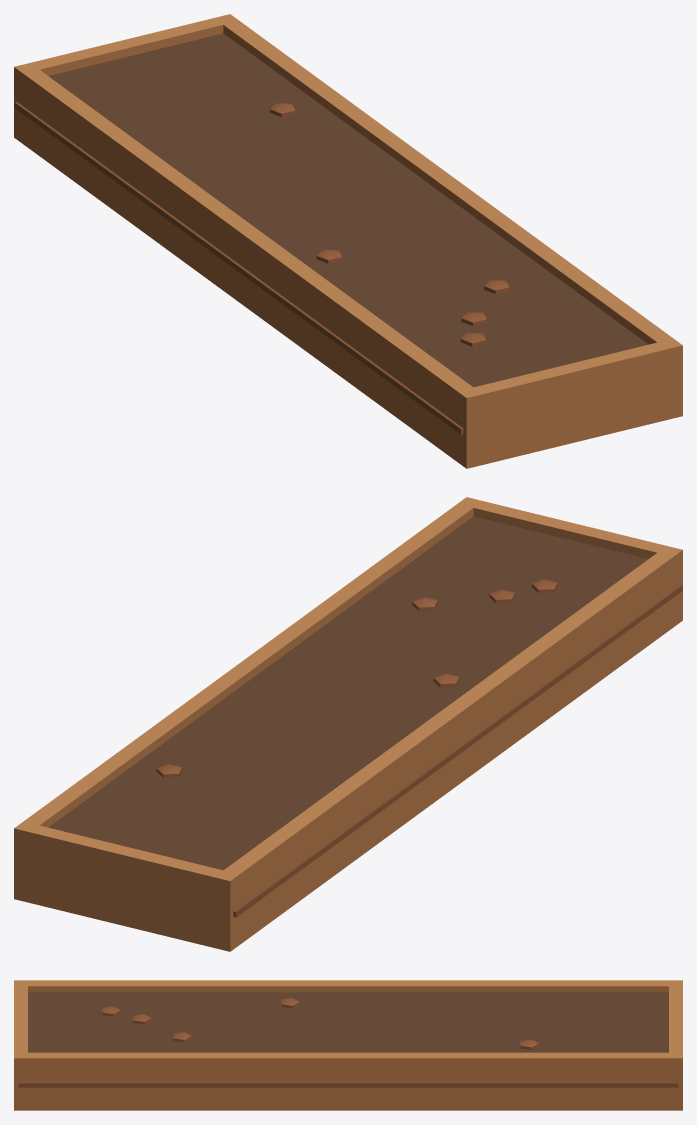
File: garden_bed.glb
The picture shows the model from 3 angles, top to bottom: view 1: azimuth 30°, elevation 25°; view 2: azimuth 150°, elevation 25°; view 3: azimuth 270°, elevation 25°; orthographic projection. The views are drawn at different scales.
Parts seen in each view (by area): view 1: garden_bed; view 2: garden_bed; view 3: garden_bed.
Boxes of the visible parts, x1,y1,x2,y2 form: garden_bed: [14, 14, 682, 468]; garden_bed: [14, 497, 682, 951]; garden_bed: [14, 980, 682, 1110].
Size of the model in its own units: 0.82 by 0.25 by 2.9.
1 material, 1 textured.
